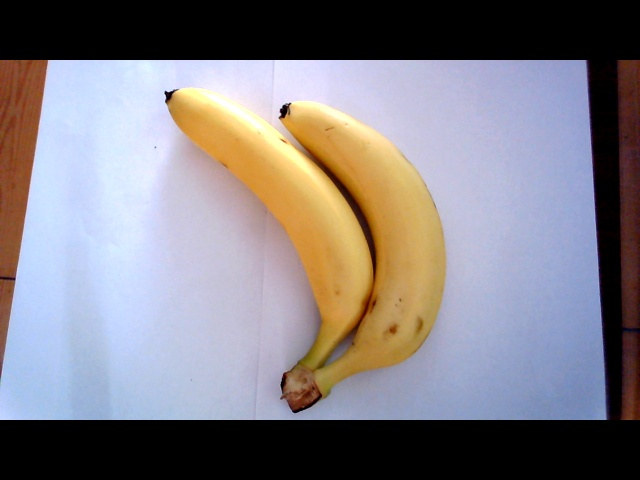banana: (159, 76, 453, 406)
